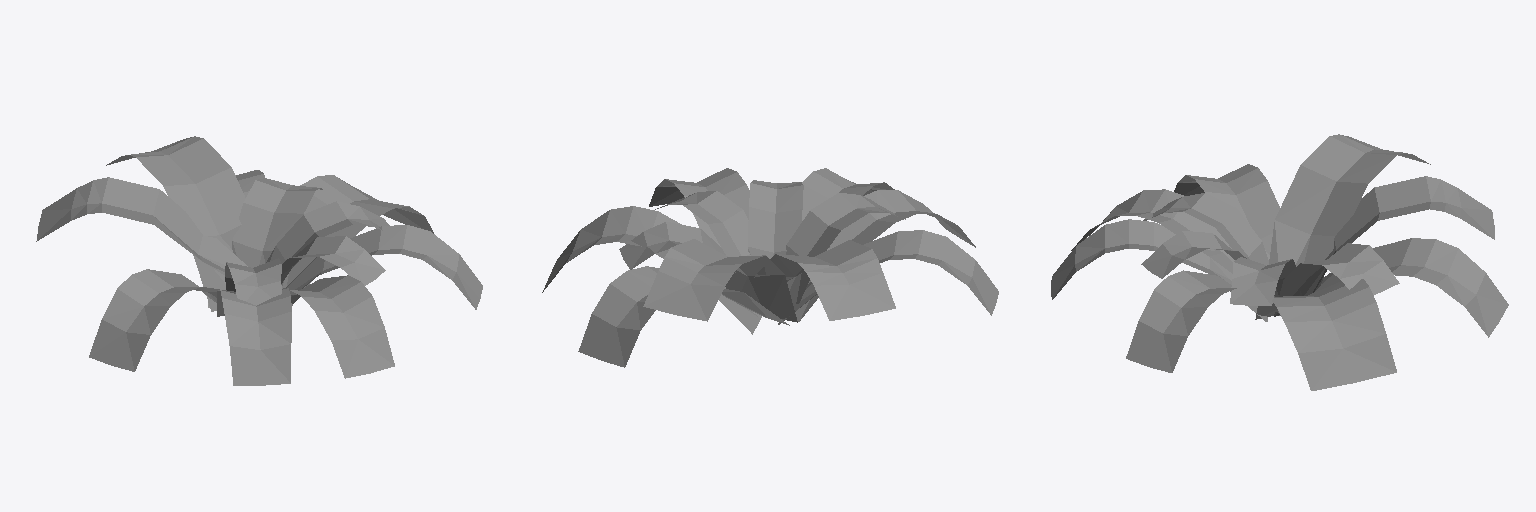
Rendered from Fern.obj.
3 renders of one model, left to right at view 1: azimuth 30°, elevation 25°; view 2: azimuth 150°, elevation 25°; view 3: azimuth 270°, elevation 25°, orthographic.
Visible parts, largest first — view 1: SM_S_Soul_Plants_Fern; view 2: SM_S_Soul_Plants_Fern; view 3: SM_S_Soul_Plants_Fern.
Boxes of the visible parts, x1=… form: SM_S_Soul_Plants_Fern: x1=36, y1=136, x2=482, y2=385; SM_S_Soul_Plants_Fern: x1=542, y1=168, x2=998, y2=367; SM_S_Soul_Plants_Fern: x1=1051, y1=134, x2=1508, y2=390.
Bounding box in the file's own units: 450 × 126 × 456.